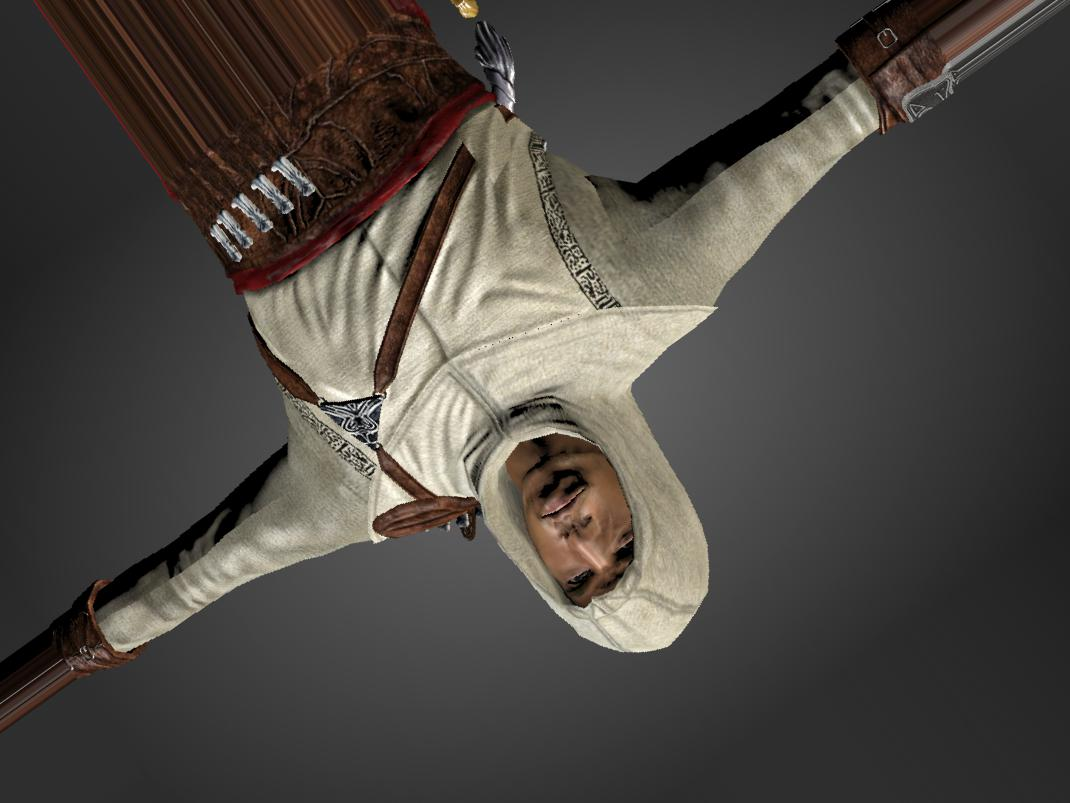clip: (461, 118, 514, 177)
